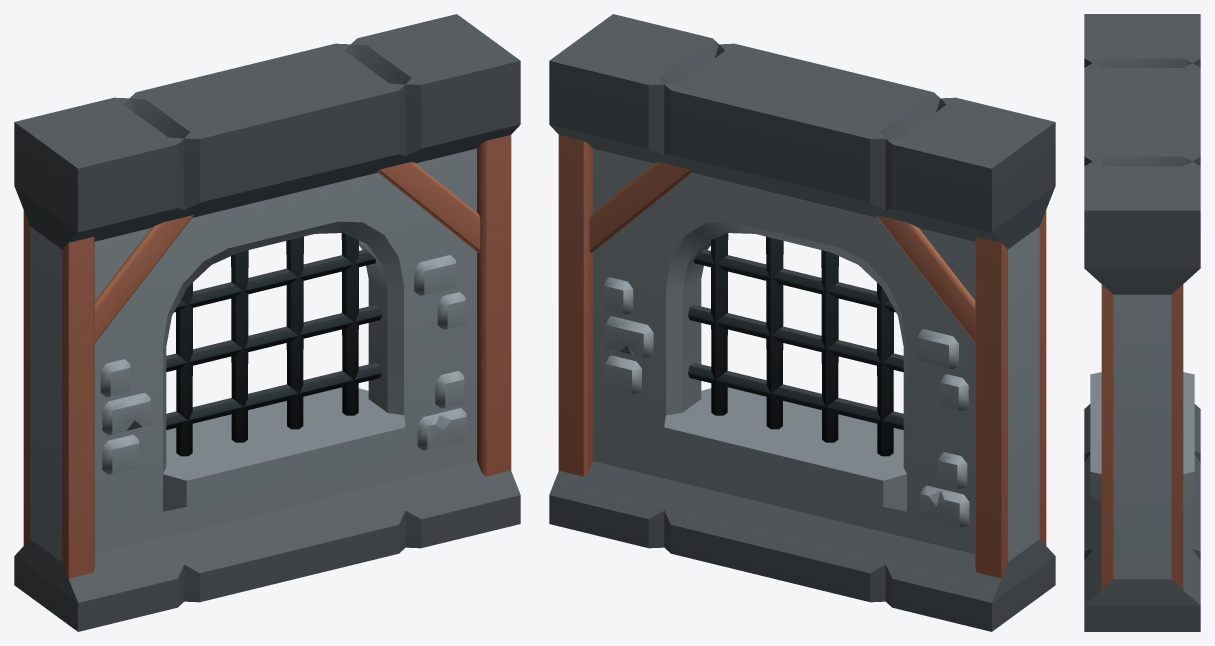
Rendered from wall-archedwindow-gated-scaffold-gltf.glb.
3 views of the same model, side by side, from view 1: azimuth 30°, elevation 25°; view 2: azimuth 150°, elevation 25°; view 3: azimuth 270°, elevation 25° (orthographic). The views are drawn at different scales.
Visible parts, largest first — view 1: wall_archedwindow_gated_scaffold; view 2: wall_archedwindow_gated_scaffold; view 3: wall_archedwindow_gated_scaffold.
Boxes of the visible parts, x1,y1,x2,y2 form: wall_archedwindow_gated_scaffold: [14, 14, 520, 631]; wall_archedwindow_gated_scaffold: [549, 14, 1055, 631]; wall_archedwindow_gated_scaffold: [1084, 14, 1200, 631].
Size of the model in its own units: 4 by 4 by 1.
Materials: 1 (1 with a texture image).
